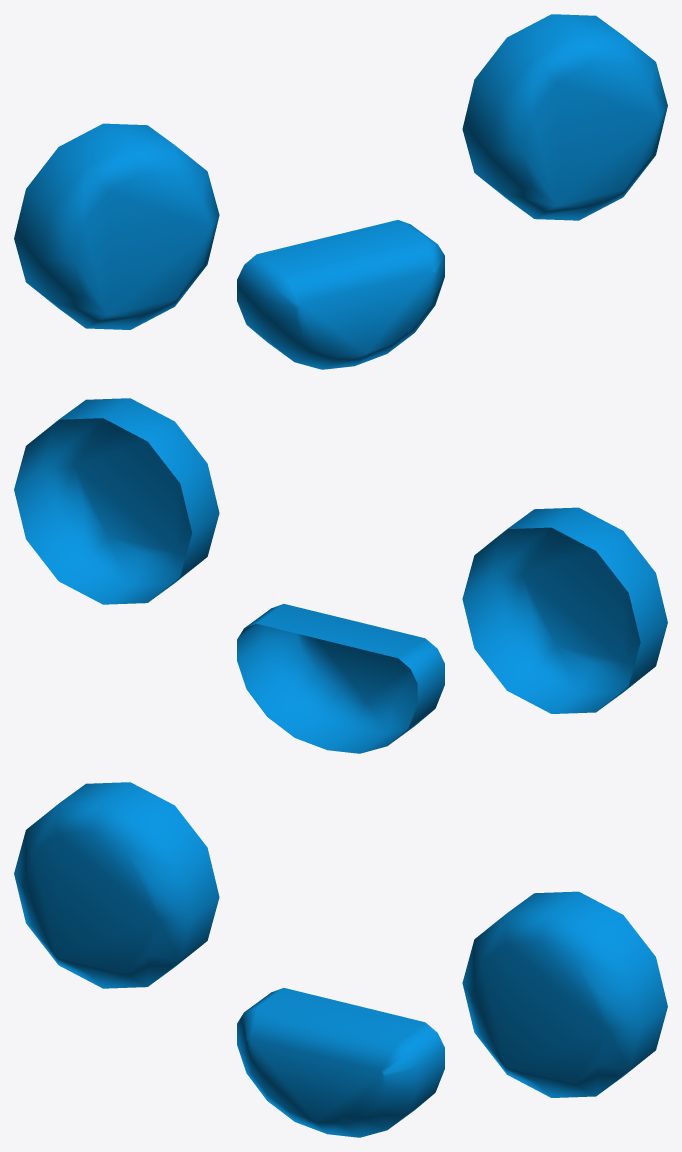
File: Drone_002_Face_Happy_001.fbx
3 renders of one model, top to bottom at view 1: azimuth 30°, elevation 25°; view 2: azimuth 150°, elevation 25°; view 3: azimuth 330°, elevation 25°, orthographic.
Visible parts, largest first — view 1: Drone_002_Face_Happy_001; view 2: Drone_002_Face_Happy_001; view 3: Drone_002_Face_Happy_001.
Part boxes in pixels (bbox=[...]): Drone_002_Face_Happy_001: bbox=[14, 14, 667, 369]; Drone_002_Face_Happy_001: bbox=[14, 398, 667, 753]; Drone_002_Face_Happy_001: bbox=[14, 782, 667, 1137].
Bounding box in the file's own units: 11.16 × 1.2 × 4.72.
